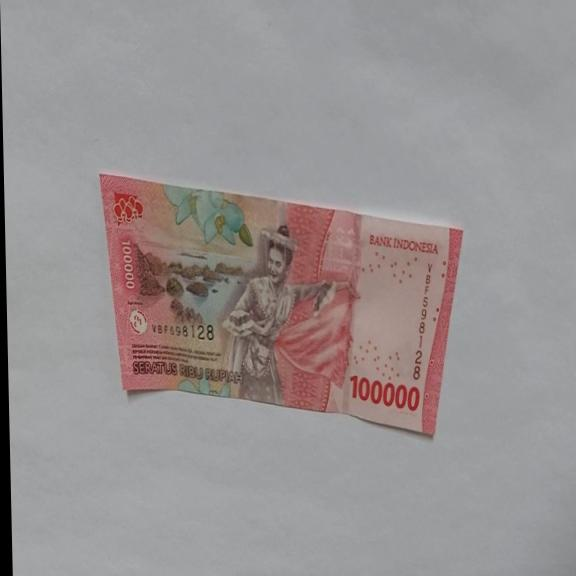Kertas: (349, 373, 421, 412)
